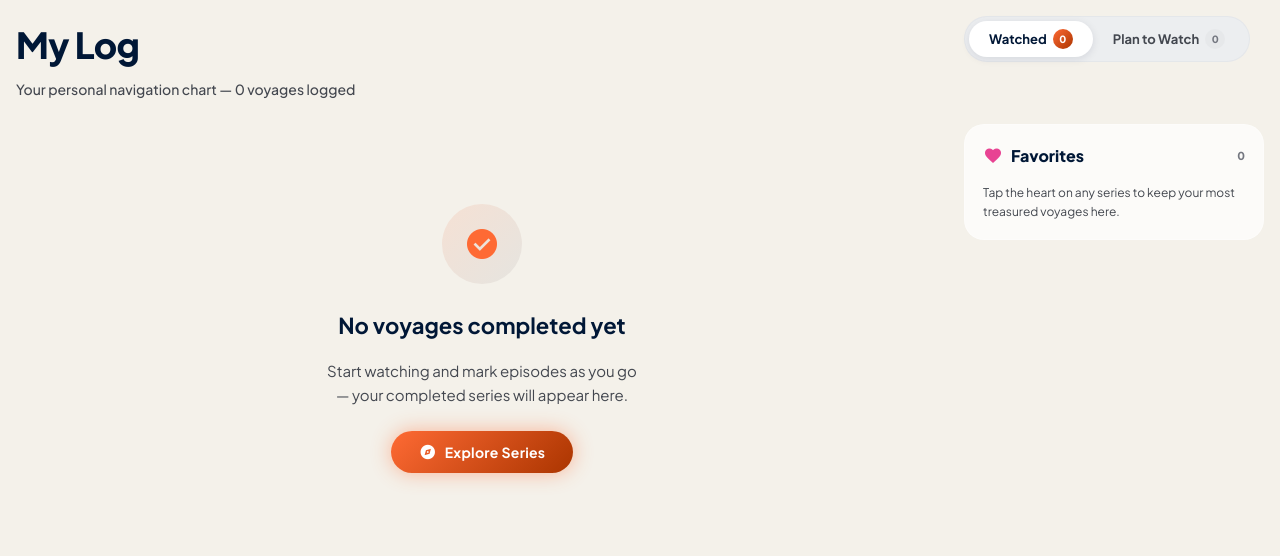
Test: removes a live series from the list via the remove button
The width and height of the screenshot is (1280, 556).
Click the button "Plan to Watch 0" at (1169, 39), box top-left (1093, 21), bottom-right (1245, 57)
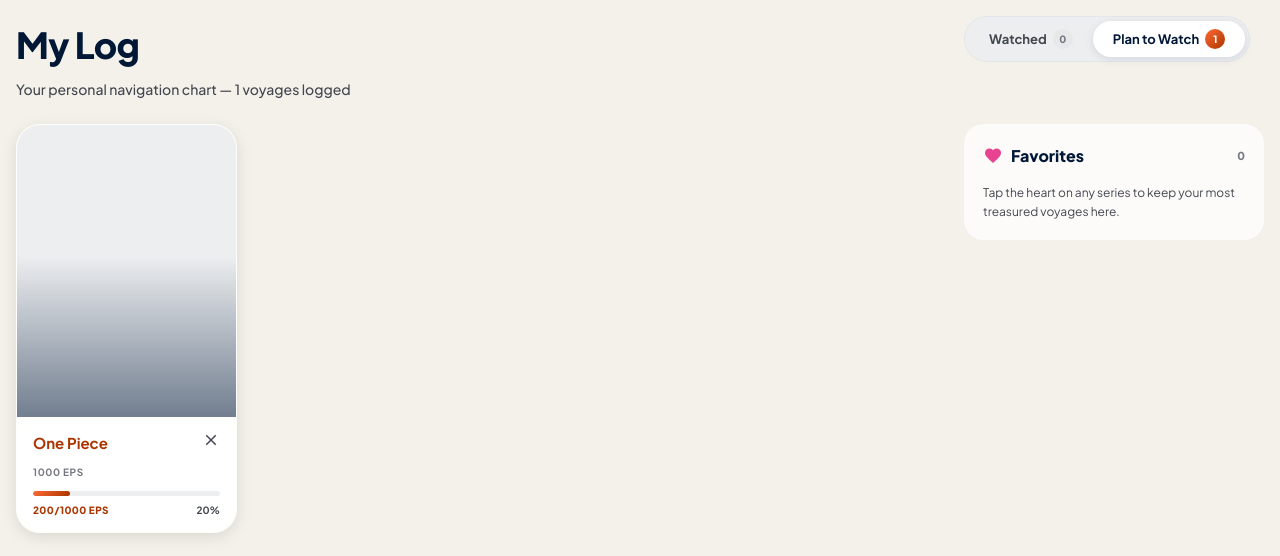
Expected: the heading "One Piece" is shown, top-left (33, 433), bottom-right (108, 452)
Click the button titled "Remove from list" at (211, 440), box top-left (202, 431), bottom-right (220, 449)
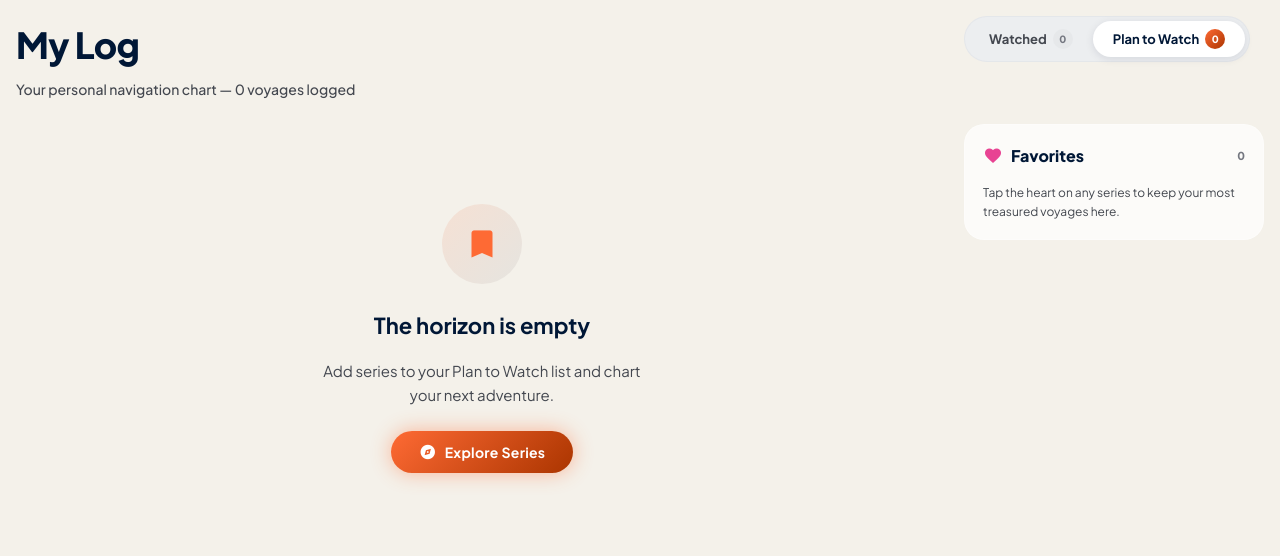
Expected: the heading "One Piece" is gone
